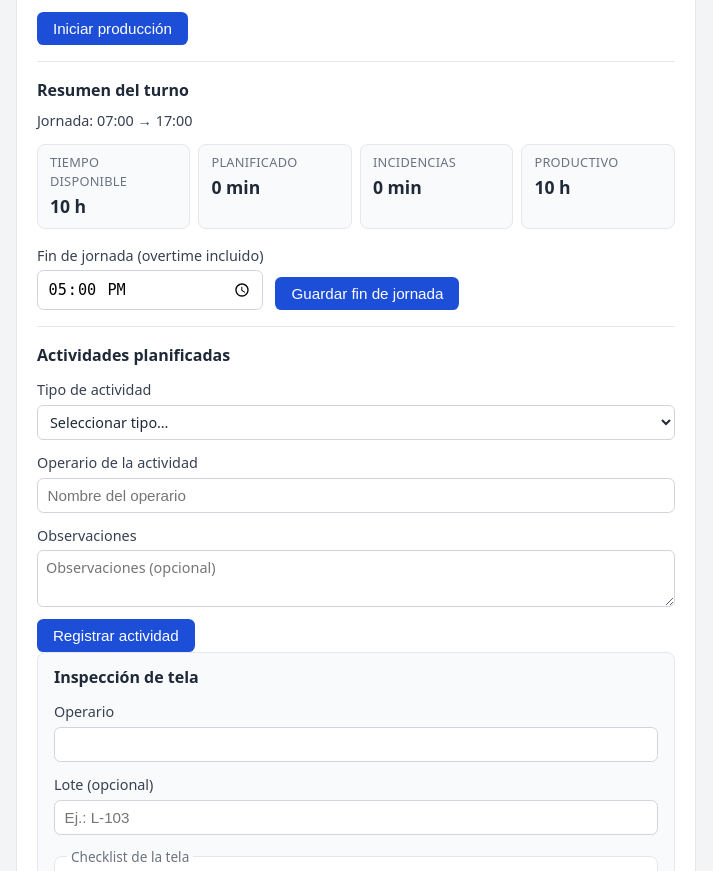
Scenario: App — ticket 03: actividades planificadas (UI) › registra un cambio de diseño en orden disponible sin bloquear el inicio
(page scrolled)
Select "Cambio de diseño" in the dropdown labelled "Tipo de actividad" at point(356, 422), box left=37, top=405, right=675, bottom=440
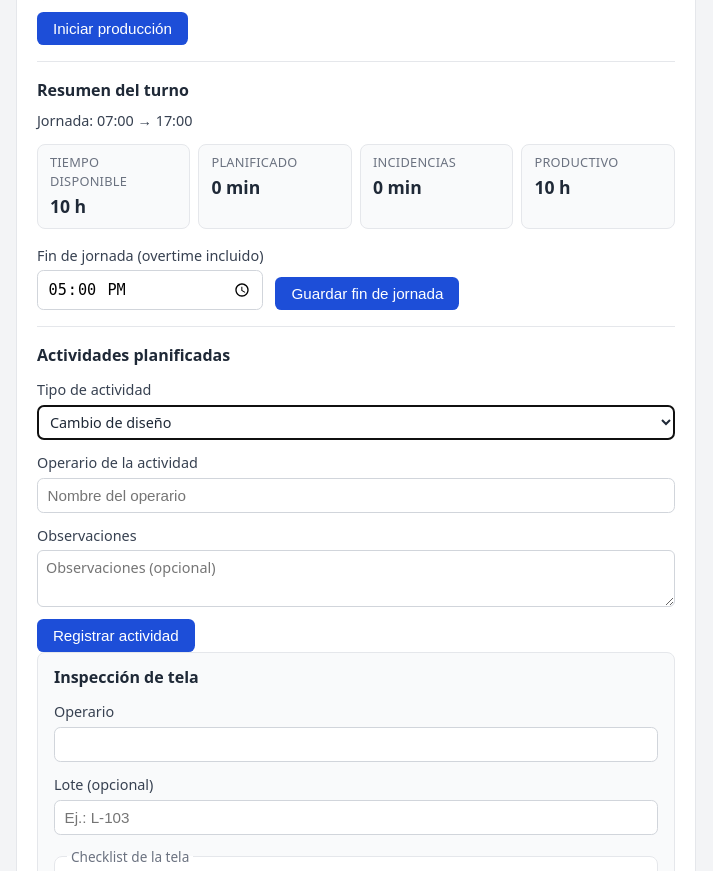
Type "Carlos Gómez" into the field labelled "Operario de la actividad".
click(356, 495); type("Carlos Gómez")  # box left=37, top=478, right=675, bottom=512
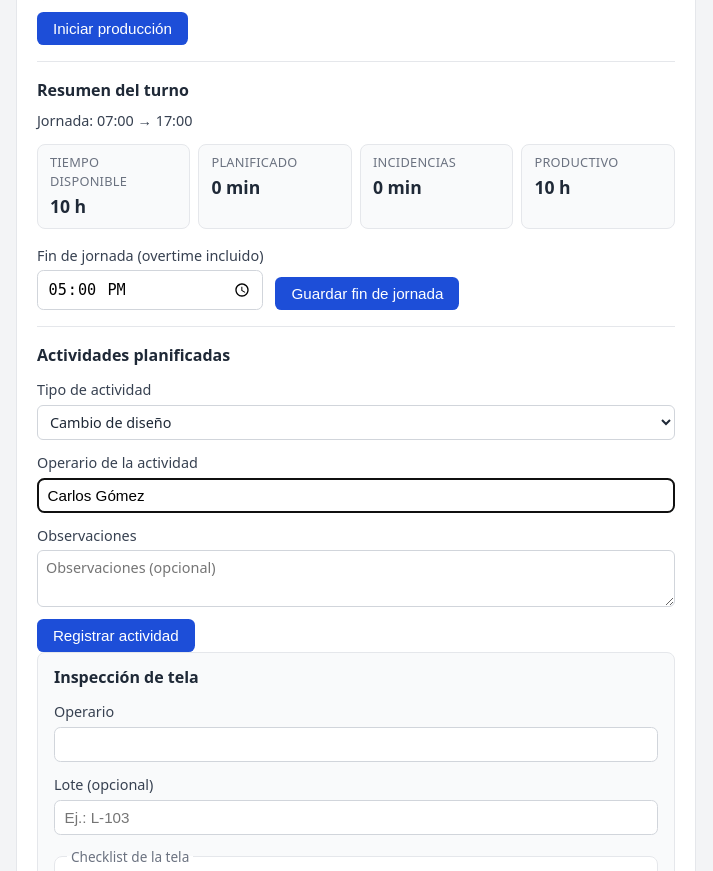
Click the button "Registrar actividad".
click(116, 636)  # box left=37, top=619, right=195, bottom=652
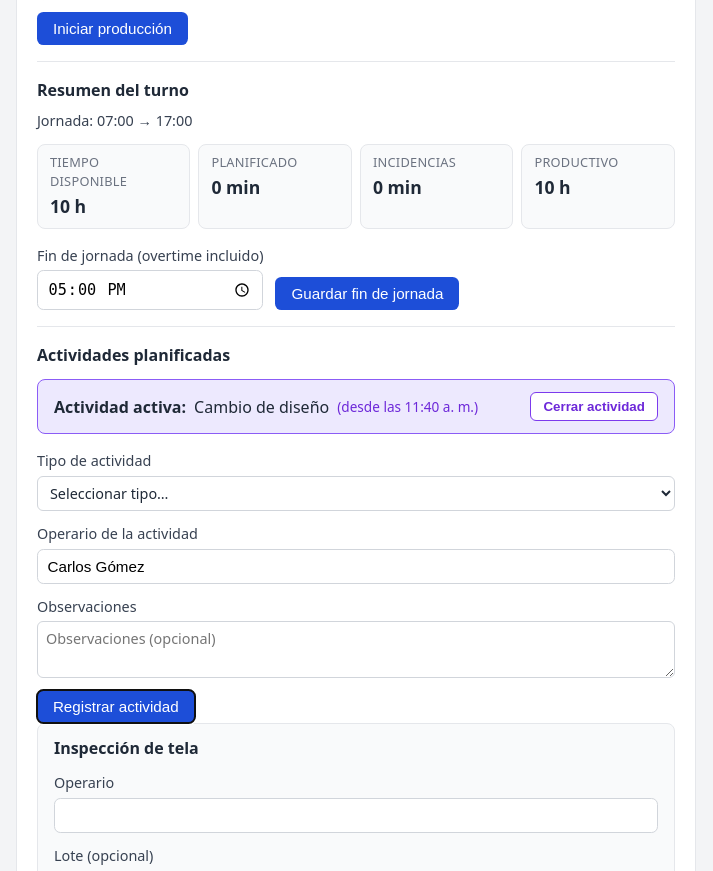
Check: the button "Iniciar producción" is enabled, box left=37, top=12, right=188, bottom=45
Check: the message "Actividad activa: Cambio de diseño (desde las 11:40 a. m.) Cerrar actividad" is shown, box left=37, top=379, right=675, bottom=434
